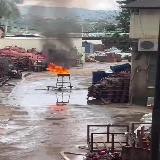fire: (46, 63, 70, 74)
